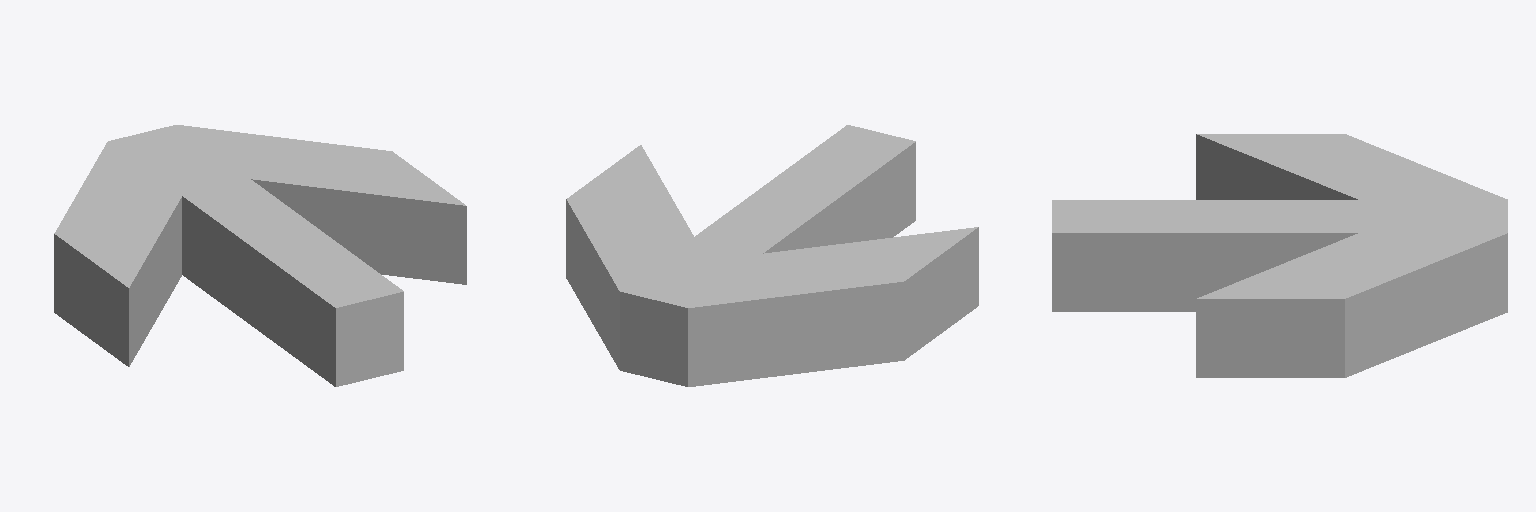
File: Arrow.obj
3 renders of one model, left to right at view 1: azimuth 30°, elevation 25°; view 2: azimuth 150°, elevation 25°; view 3: azimuth 270°, elevation 25°, orthographic.
Parts seen in each view (by area): view 1: Arrow; view 2: Arrow; view 3: Arrow.
Part boxes in pixels (left/top/right/bottom): Arrow: left=54, top=125, right=466, bottom=386; Arrow: left=566, top=125, right=978, bottom=386; Arrow: left=1052, top=134, right=1507, bottom=377.
Bounding box in the file's own units: 0.9842 × 0.2202 × 1.15.